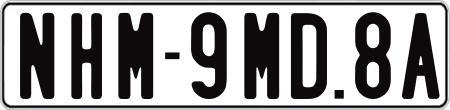8: (353, 9, 392, 98)
9: (189, 12, 228, 100)
A: (399, 13, 429, 101)
D: (288, 10, 324, 102)
H: (71, 12, 106, 103)
M: (242, 11, 278, 97), (117, 12, 152, 98)
N: (19, 12, 59, 103)
